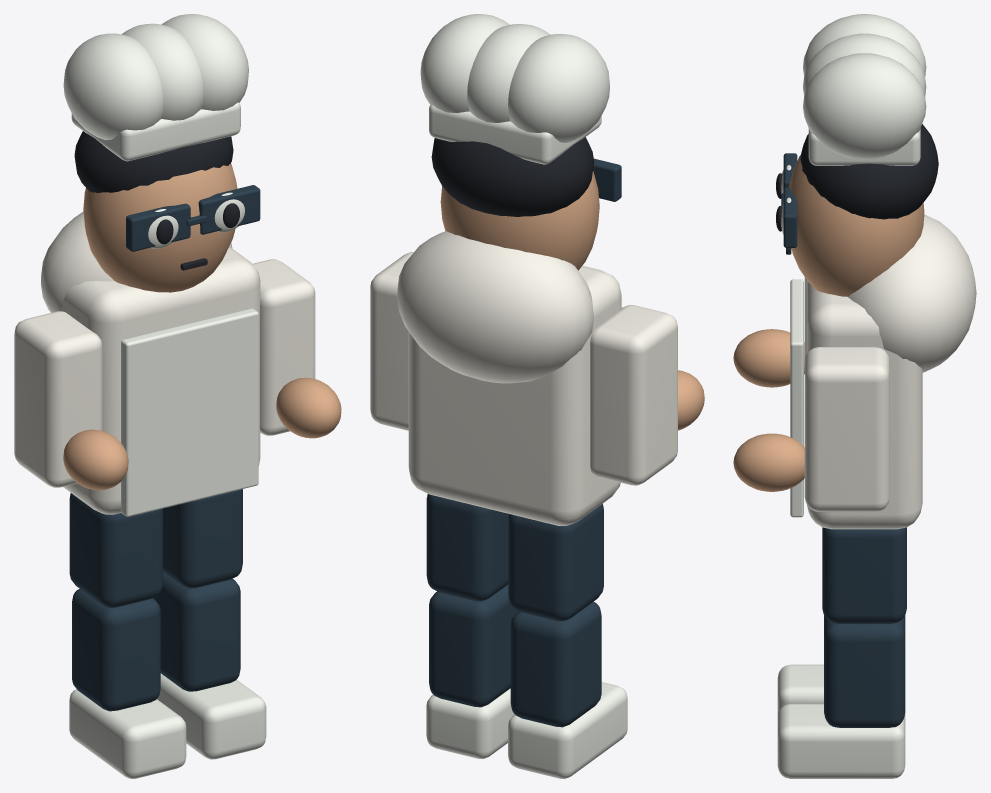
The model's file is chef_bo.glb.
3 renders of one model, left to right at view 1: azimuth 30°, elevation 25°; view 2: azimuth 150°, elevation 25°; view 3: azimuth 270°, elevation 25°, orthographic. The views are drawn at different scales.
Visible parts, largest first — view 1: Apron, Sleeve, Hoodie, Head, Shin_L, Thigh_L, Shin_R, Chef toque, Sleeve.001, Sneaker, Thigh_R, Sneaker.001 (+9 smaller); view 2: Hoodie, Hood, Sleeve, Shin_L, Hair, Thigh_L, Shin_R, Chef toque, Thigh_R, Head, Sneaker, Sleeve.001 (+6 smaller); view 3: Sleeve.001, Hood, Hoodie, Chef toque.002, Head, Shin_R, Thigh_R, Sneaker.001, Hair, Hand.001, Hand, Apron (+5 smaller).
Part boxes in pixels (left/top/right/bottom): Apron: left=121, top=308, right=258, bottom=516; Sleeve: left=14, top=311, right=102, bottom=487; Hoodie: left=62, top=247, right=260, bottom=514; Head: left=83, top=163, right=237, bottom=292; Shin_L: left=72, top=589, right=160, bottom=711; Thigh_L: left=69, top=493, right=162, bottom=607; Shin_R: left=153, top=572, right=240, bottom=691; Chef toque: left=63, top=33, right=163, bottom=139; Sleeve.001: left=252, top=259, right=315, bottom=435; Sneaker: left=69, top=689, right=186, bottom=778; Thigh_R: left=163, top=489, right=242, bottom=588; Sneaker.001: left=157, top=673, right=266, bottom=759; Hoodie: left=408, top=265, right=621, bottom=525; Hood: left=397, top=231, right=593, bottom=383; Sleeve: left=590, top=305, right=677, bottom=485; Shin_L: left=510, top=601, right=601, bottom=727; Hair: left=431, top=137, right=594, bottom=216; Thigh_L: left=508, top=503, right=603, bottom=621; Shin_R: left=429, top=584, right=518, bottom=707; Chef toque: left=508, top=34, right=609, bottom=142; Thigh_R: left=426, top=494, right=509, bottom=601; Head: left=440, top=171, right=599, bottom=270; Sneaker: left=508, top=682, right=627, bottom=778; Sleeve.001: left=370, top=252, right=413, bottom=430; Sleeve.001: left=804, top=347, right=889, bottom=511; Hood: left=848, top=214, right=976, bottom=372; Hoodie: left=806, top=280, right=922, bottom=529; Chef toque.002: left=803, top=53, right=926, bottom=159; Head: left=789, top=155, right=924, bottom=296; Shin_R: left=824, top=616, right=905, bottom=727; Thigh_R: left=822, top=527, right=906, bottom=623; Sneaker.001: left=777, top=704, right=905, bottom=778; Hair: left=800, top=124, right=938, bottom=219; Hand.001: left=733, top=433, right=804, bottom=491; Hand: left=733, top=329, right=804, bottom=387; Apron: left=790, top=279, right=803, bottom=517.
Bounding box in the file's own units: 0.81 × 2.03 × 0.63.
